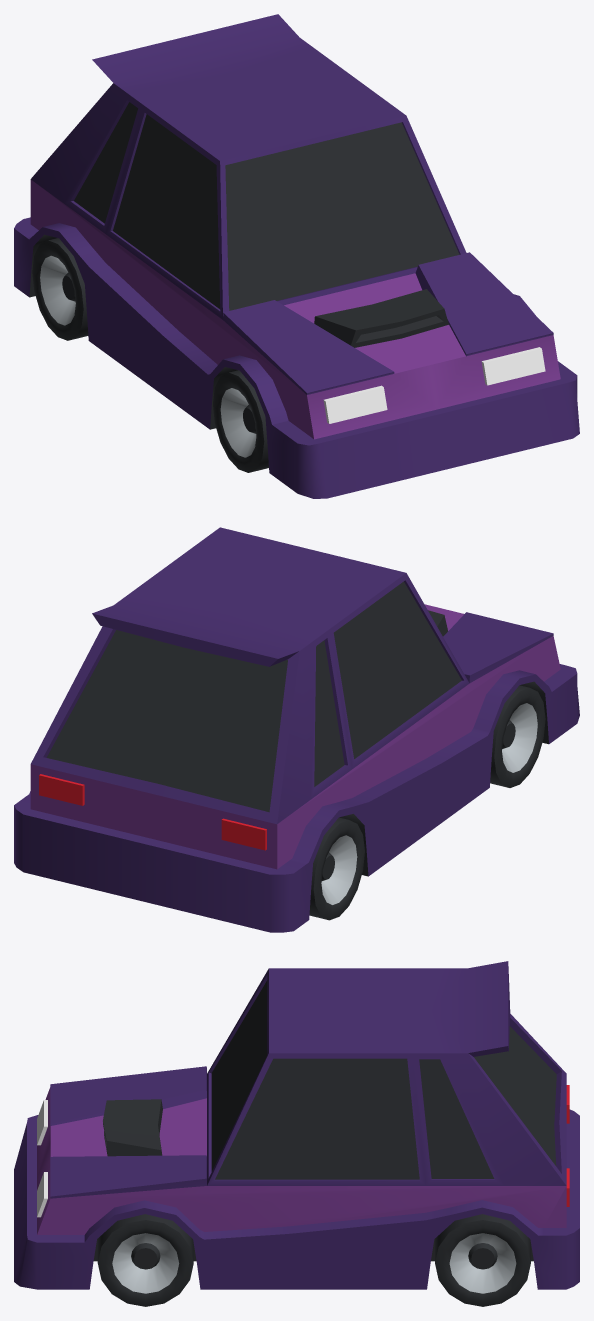
Rendered from Car_5.fbx.
3 views of the same model, one above another, from view 1: azimuth 30°, elevation 25°; view 2: azimuth 150°, elevation 25°; view 3: azimuth 270°, elevation 25° (orthographic). The views are drawn at different scales.
Visible parts, largest first — view 1: Car 5, Car5Wheel4, Car5Wheel2; view 2: Car 5, Car5Wheel4, Car5Wheel2; view 3: Car 5, Car5Wheel1, Car5Wheel3.
Part boxes in pixels (<box>): Car 5: <box>14,14,579,498</box>; Car5Wheel4: <box>32,238,88,340</box>; Car5Wheel2: <box>213,370,268,472</box>; Car 5: <box>14,527,579,932</box>; Car5Wheel4: <box>309,817,364,920</box>; Car5Wheel2: <box>490,685,545,787</box>; Car 5: <box>14,961,579,1289</box>; Car5Wheel1: <box>97,1214,193,1306</box>; Car5Wheel3: <box>435,1214,530,1306</box>.
Size of the model in its own units: 279 by 240 by 514.
Materials: 1 (1 with a texture image).
